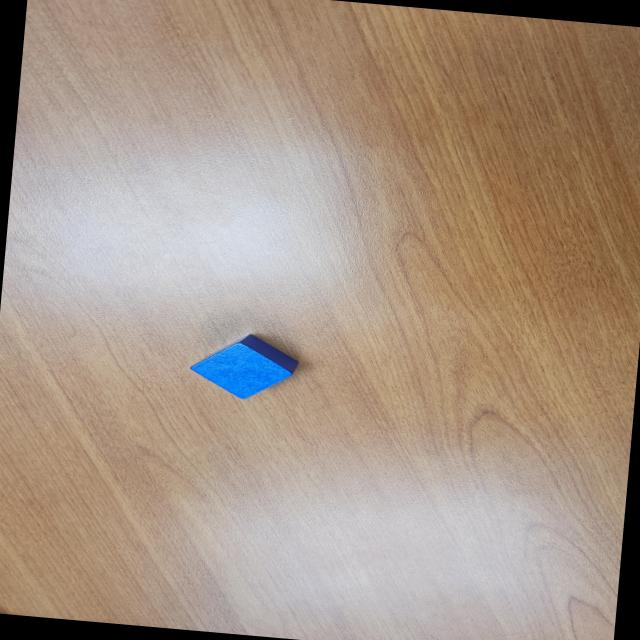blue: (186, 330, 301, 404)
